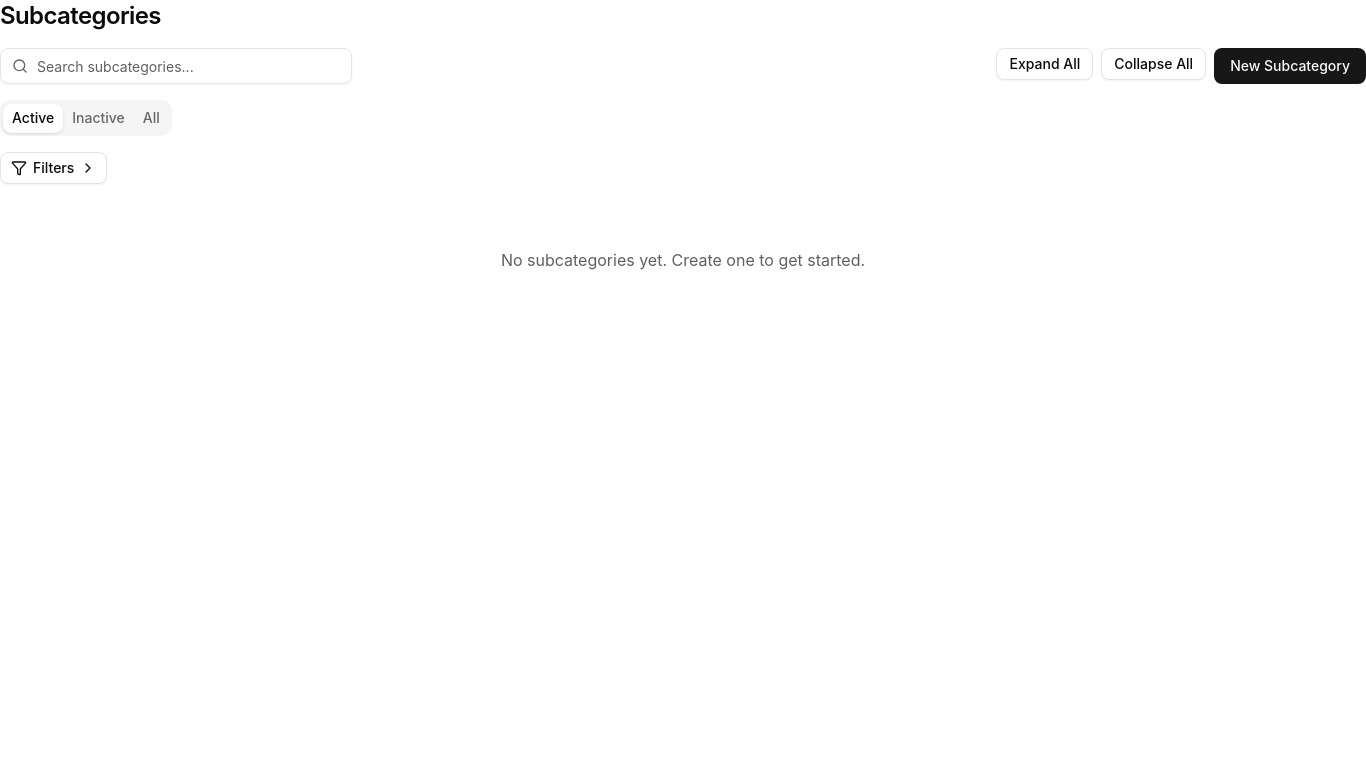
Subcategories › closes create dialog when Cancel is clicked
The width and height of the screenshot is (1366, 768).
Click the button "New Subcategory".
click(1290, 66)  # box [1214, 48, 1365, 84]
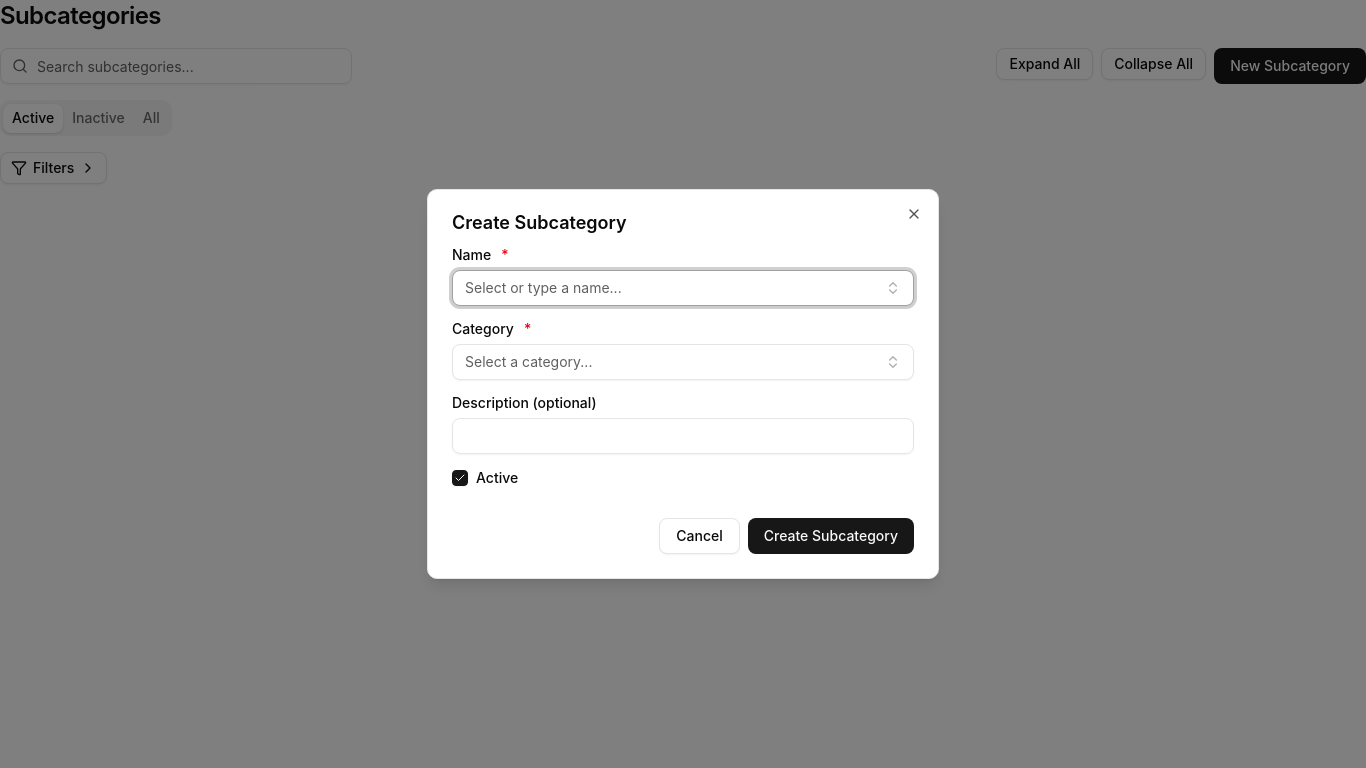
expect the heading "Create Subcategory" is shown: met, box [452, 212, 626, 233]
Click the button "Cancel".
click(700, 536)  # box [659, 518, 740, 554]
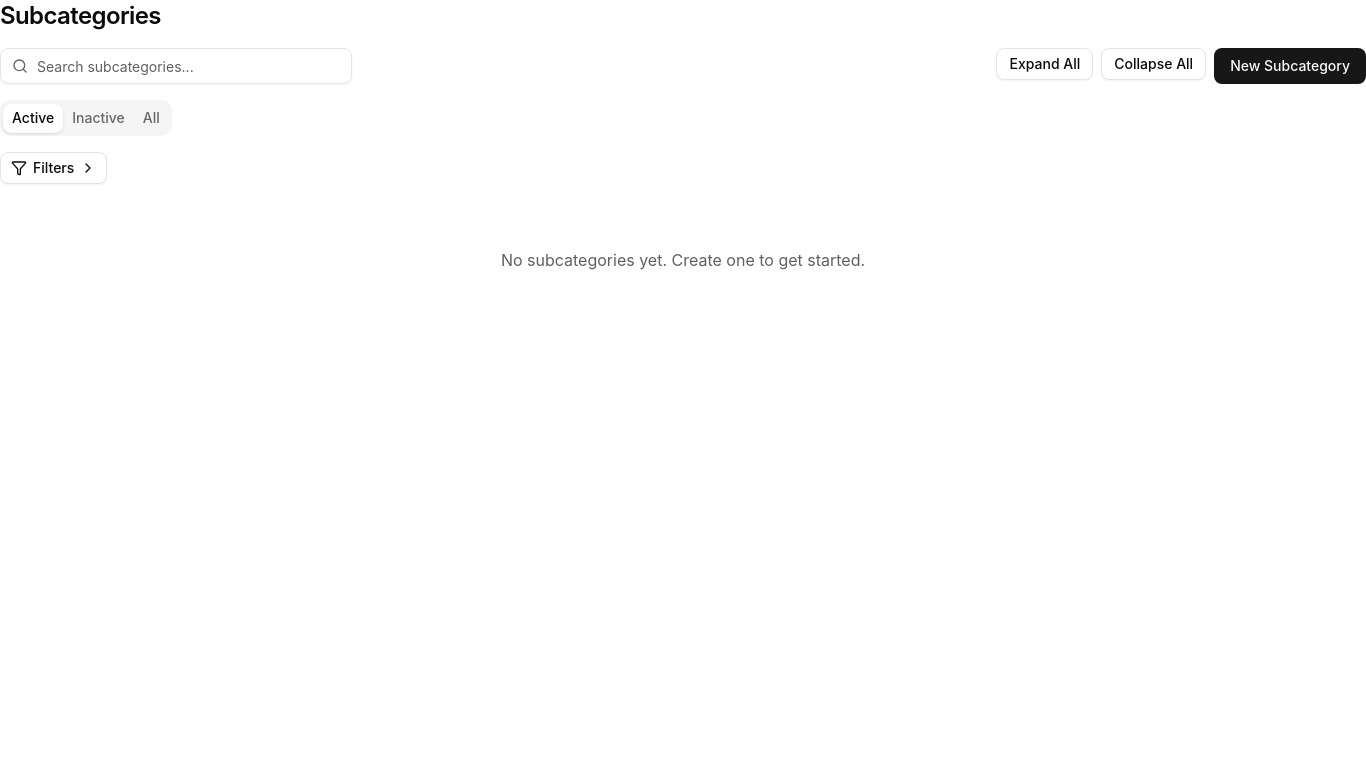
expect the heading "Create Subcategory" is gone: met
